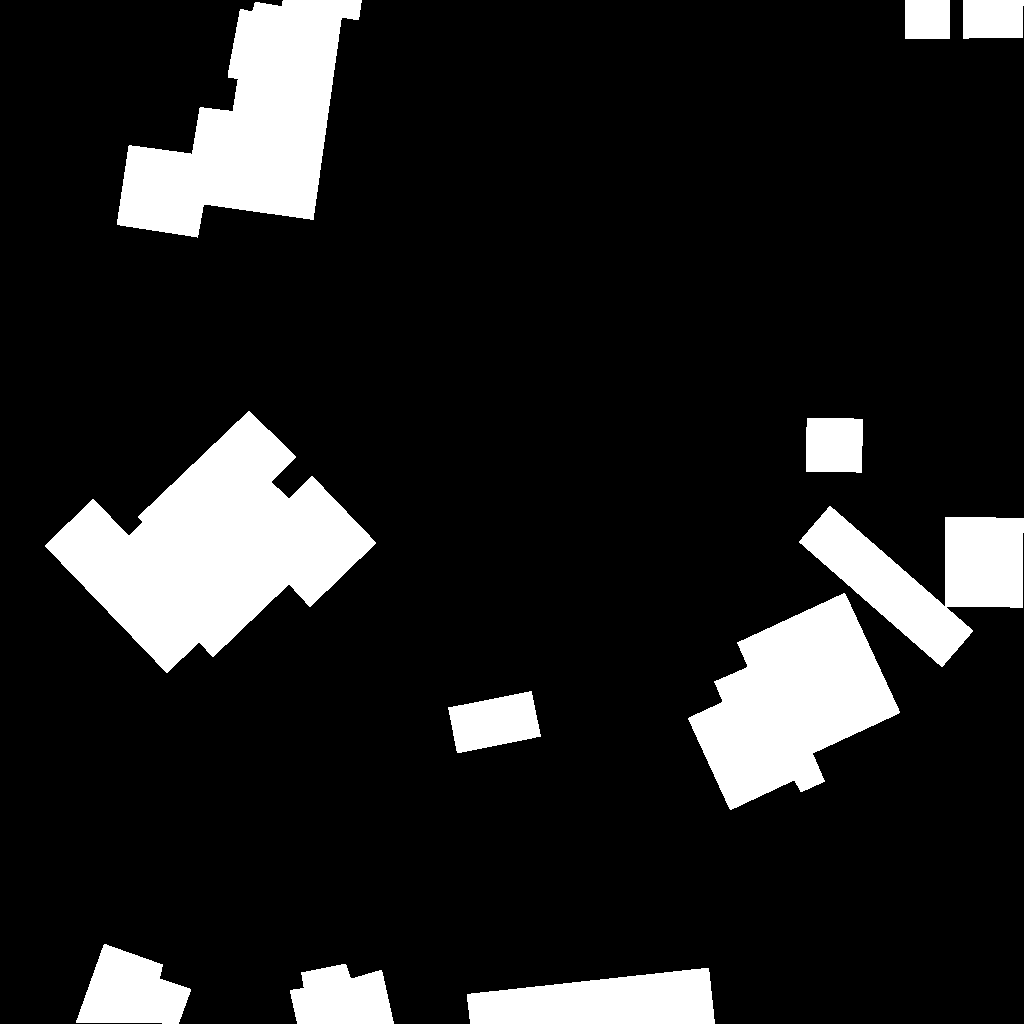building: (45, 411, 377, 674), (117, 2, 344, 238), (688, 593, 901, 811), (799, 506, 974, 668), (467, 968, 716, 1024), (76, 944, 192, 1024), (945, 517, 1024, 608), (290, 964, 395, 1024), (448, 691, 542, 754), (806, 418, 864, 473), (963, 0, 1024, 39), (905, 0, 951, 39), (282, 0, 363, 21), (0, 781, 2, 787)
